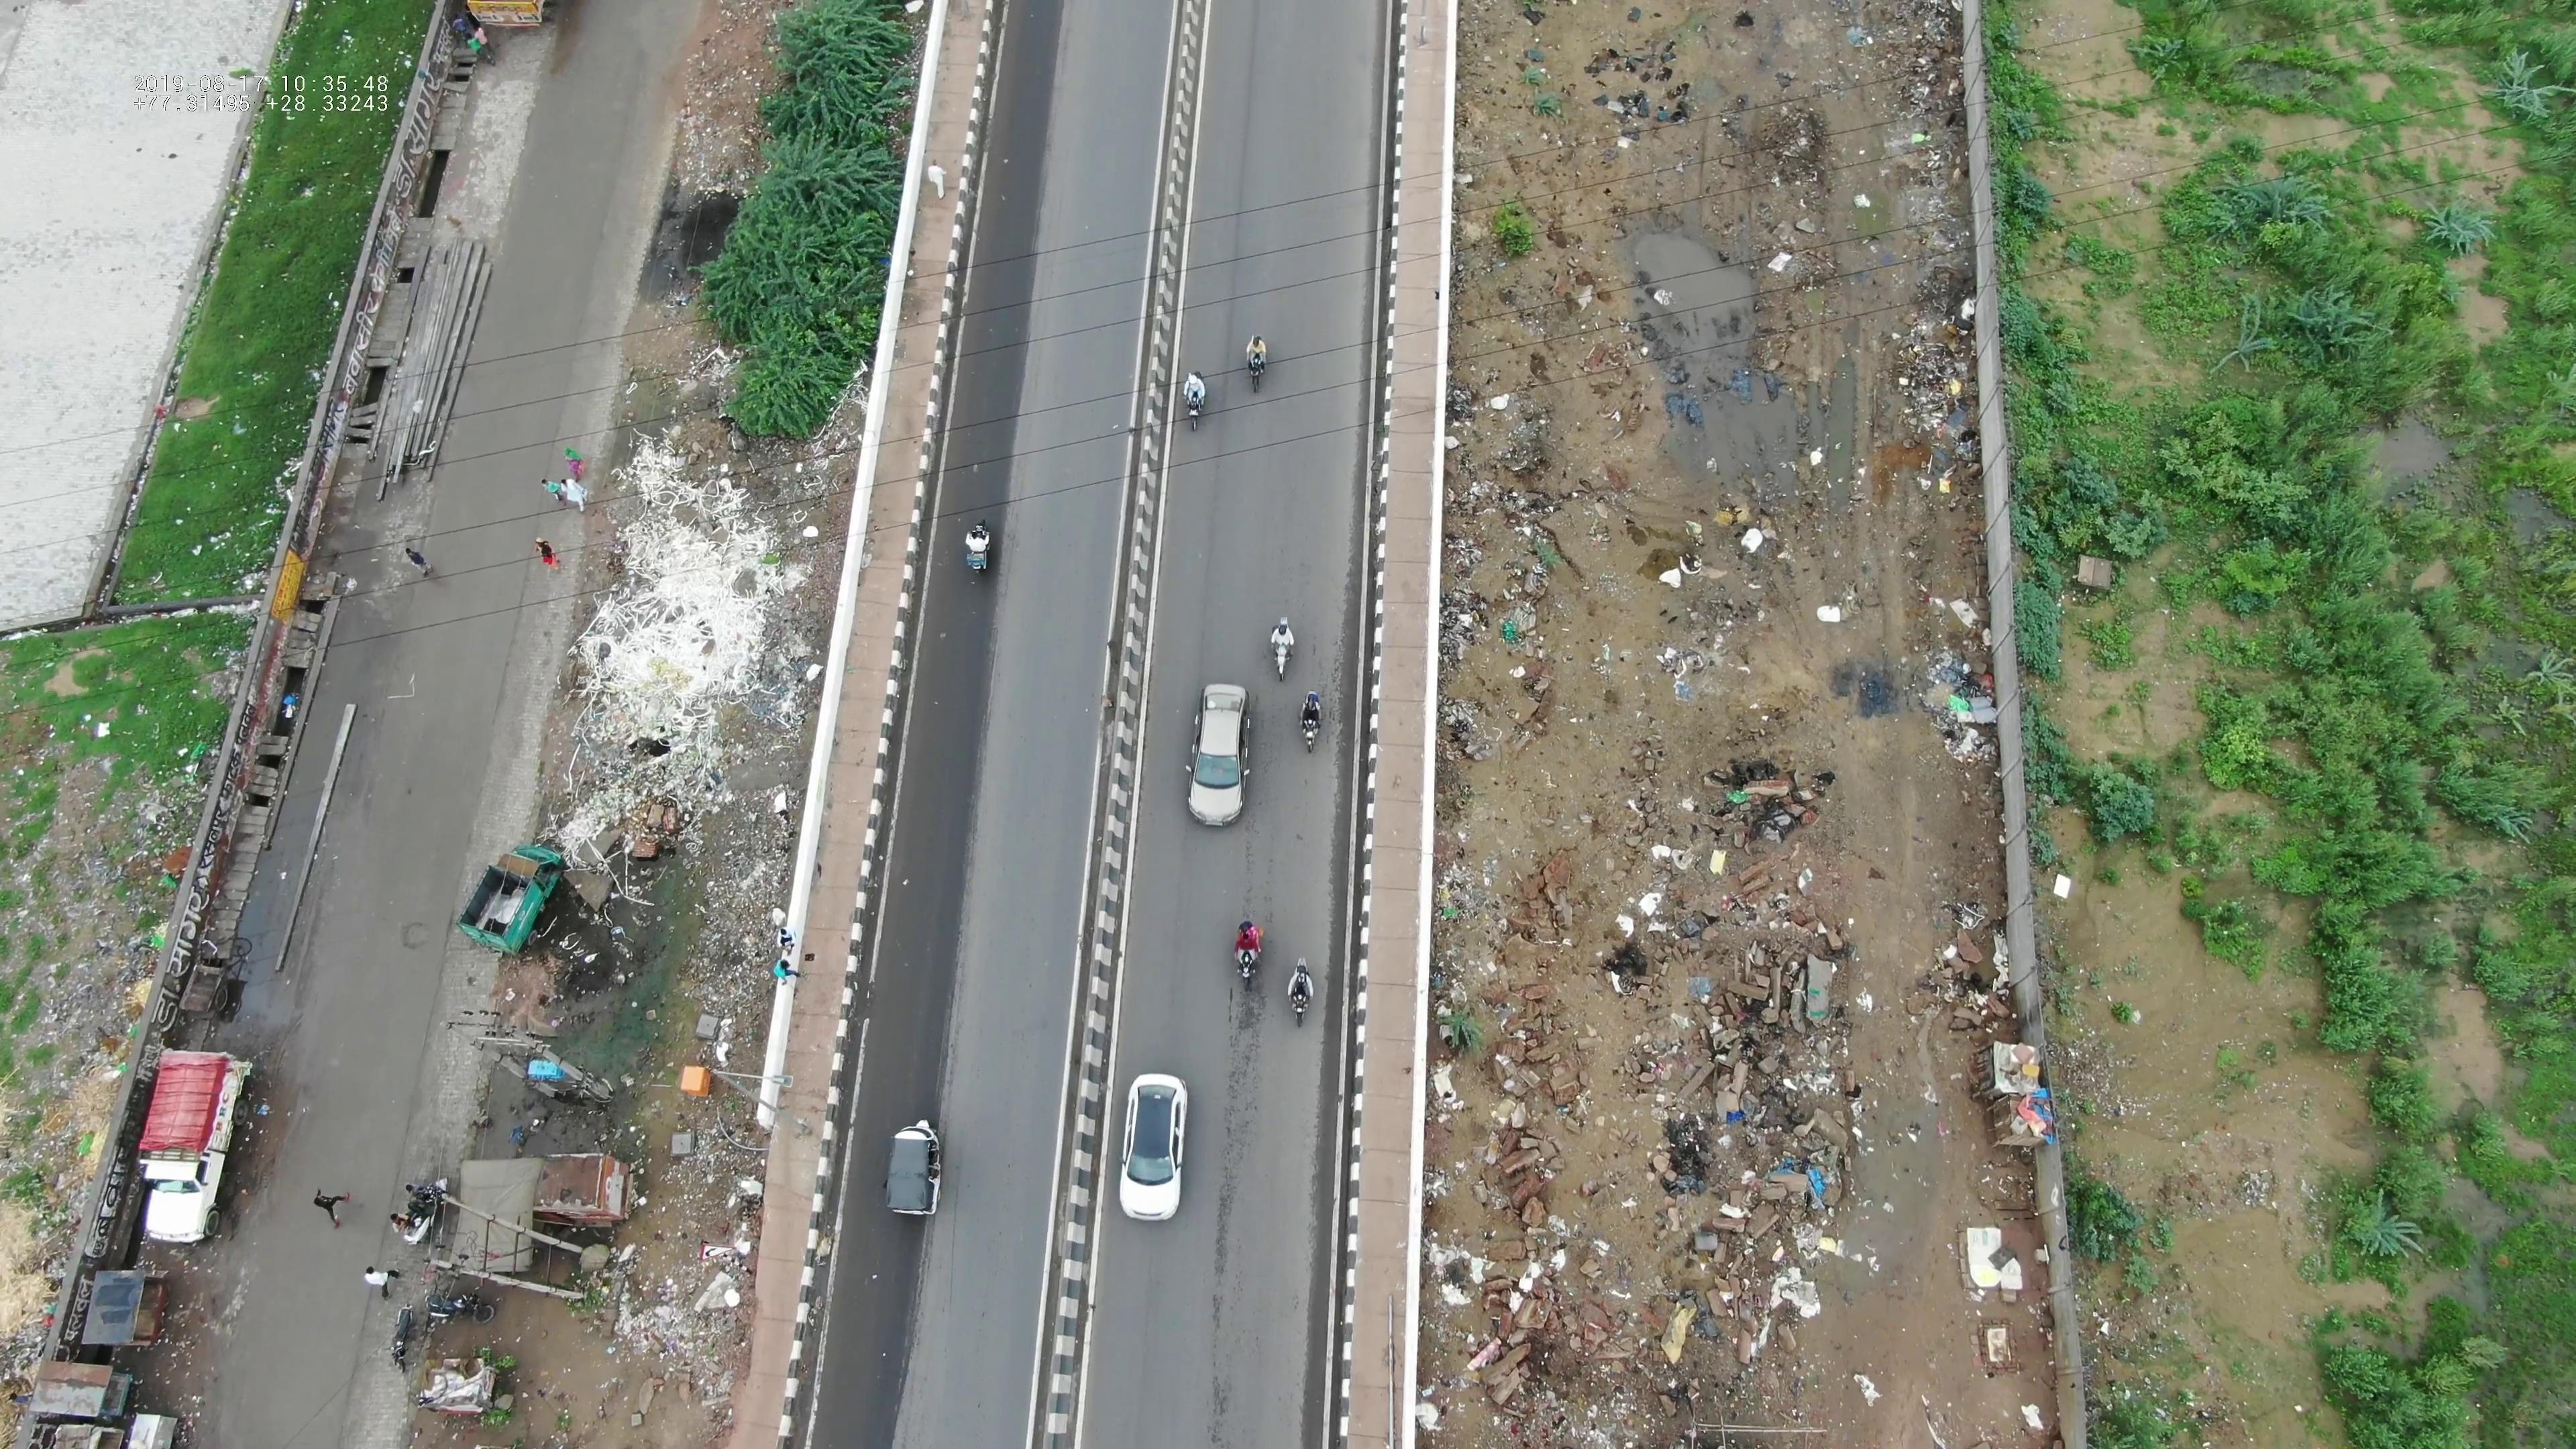Potholes: (352, 906, 444, 959)
Ravelling: (1189, 1017, 1272, 1299)
Road_side_garbage: (525, 464, 805, 830)
Waterlogging: (619, 172, 754, 306)
